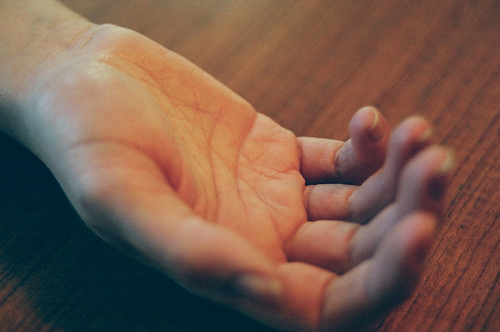palm: (68, 41, 301, 277)
